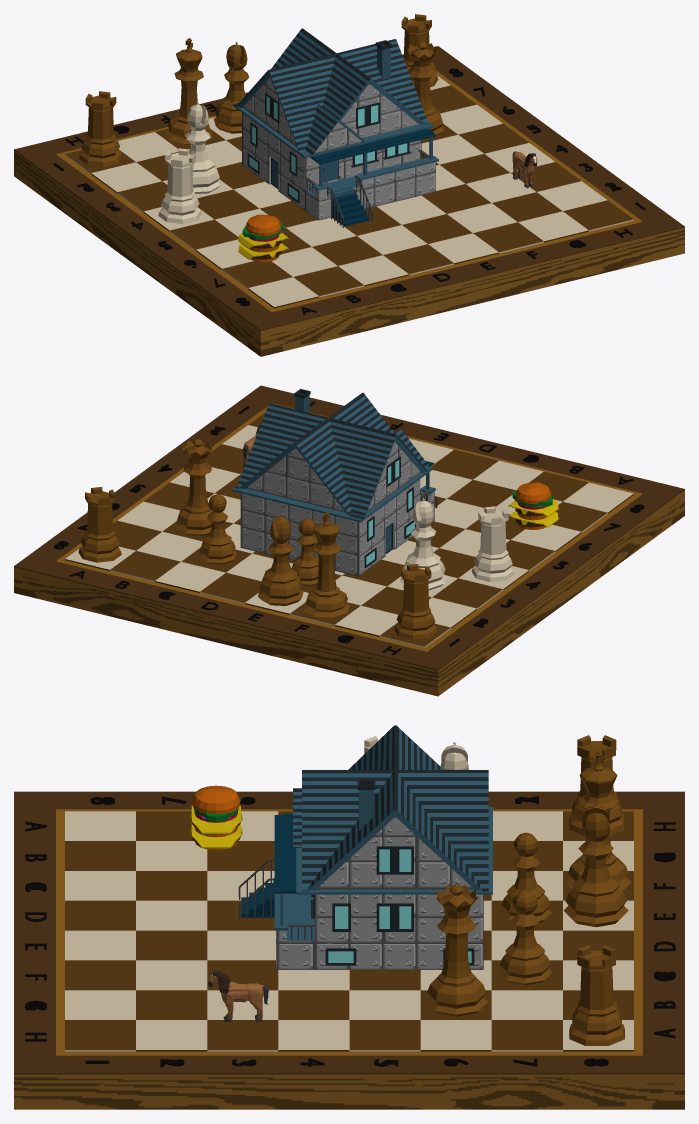
3 renders of one model, top to bottom at view 1: azimuth 30°, elevation 25°; view 2: azimuth 150°, elevation 25°; view 3: azimuth 270°, elevation 25°, orthographic. The views are drawn at different scales.
Visible parts, largest first — view 1: Cube.002, Cube.078, OBJRANDOM_HAMBURGER, ANIMAL_CABALLO; view 2: Cube.002, Cube.078, OBJRANDOM_HAMBURGER; view 3: Cube.002, Cube.078, OBJRANDOM_HAMBURGER, ANIMAL_CABALLO.
Boxes of the visible parts, bbox=[...] form: Cube.002: bbox=[14, 14, 684, 356]; Cube.078: bbox=[232, 28, 438, 227]; OBJRANDOM_HAMBURGER: bbox=[238, 214, 288, 262]; ANIMAL_CABALLO: bbox=[512, 151, 537, 188]; Cube.002: bbox=[14, 385, 684, 696]; Cube.078: bbox=[232, 389, 437, 576]; OBJRANDOM_HAMBURGER: bbox=[508, 482, 558, 529]; Cube.002: bbox=[14, 735, 684, 1109]; Cube.078: bbox=[238, 725, 492, 969]; OBJRANDOM_HAMBURGER: bbox=[190, 785, 242, 850]; ANIMAL_CABALLO: bbox=[208, 970, 268, 1022].
Size of the model in its own units: 3981 by 1492 by 4012.
29 materials, 4 textured.
